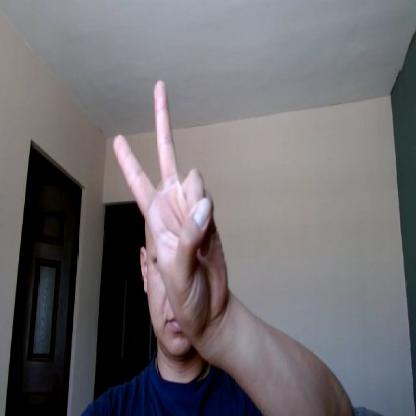V: (112, 79, 228, 332)
